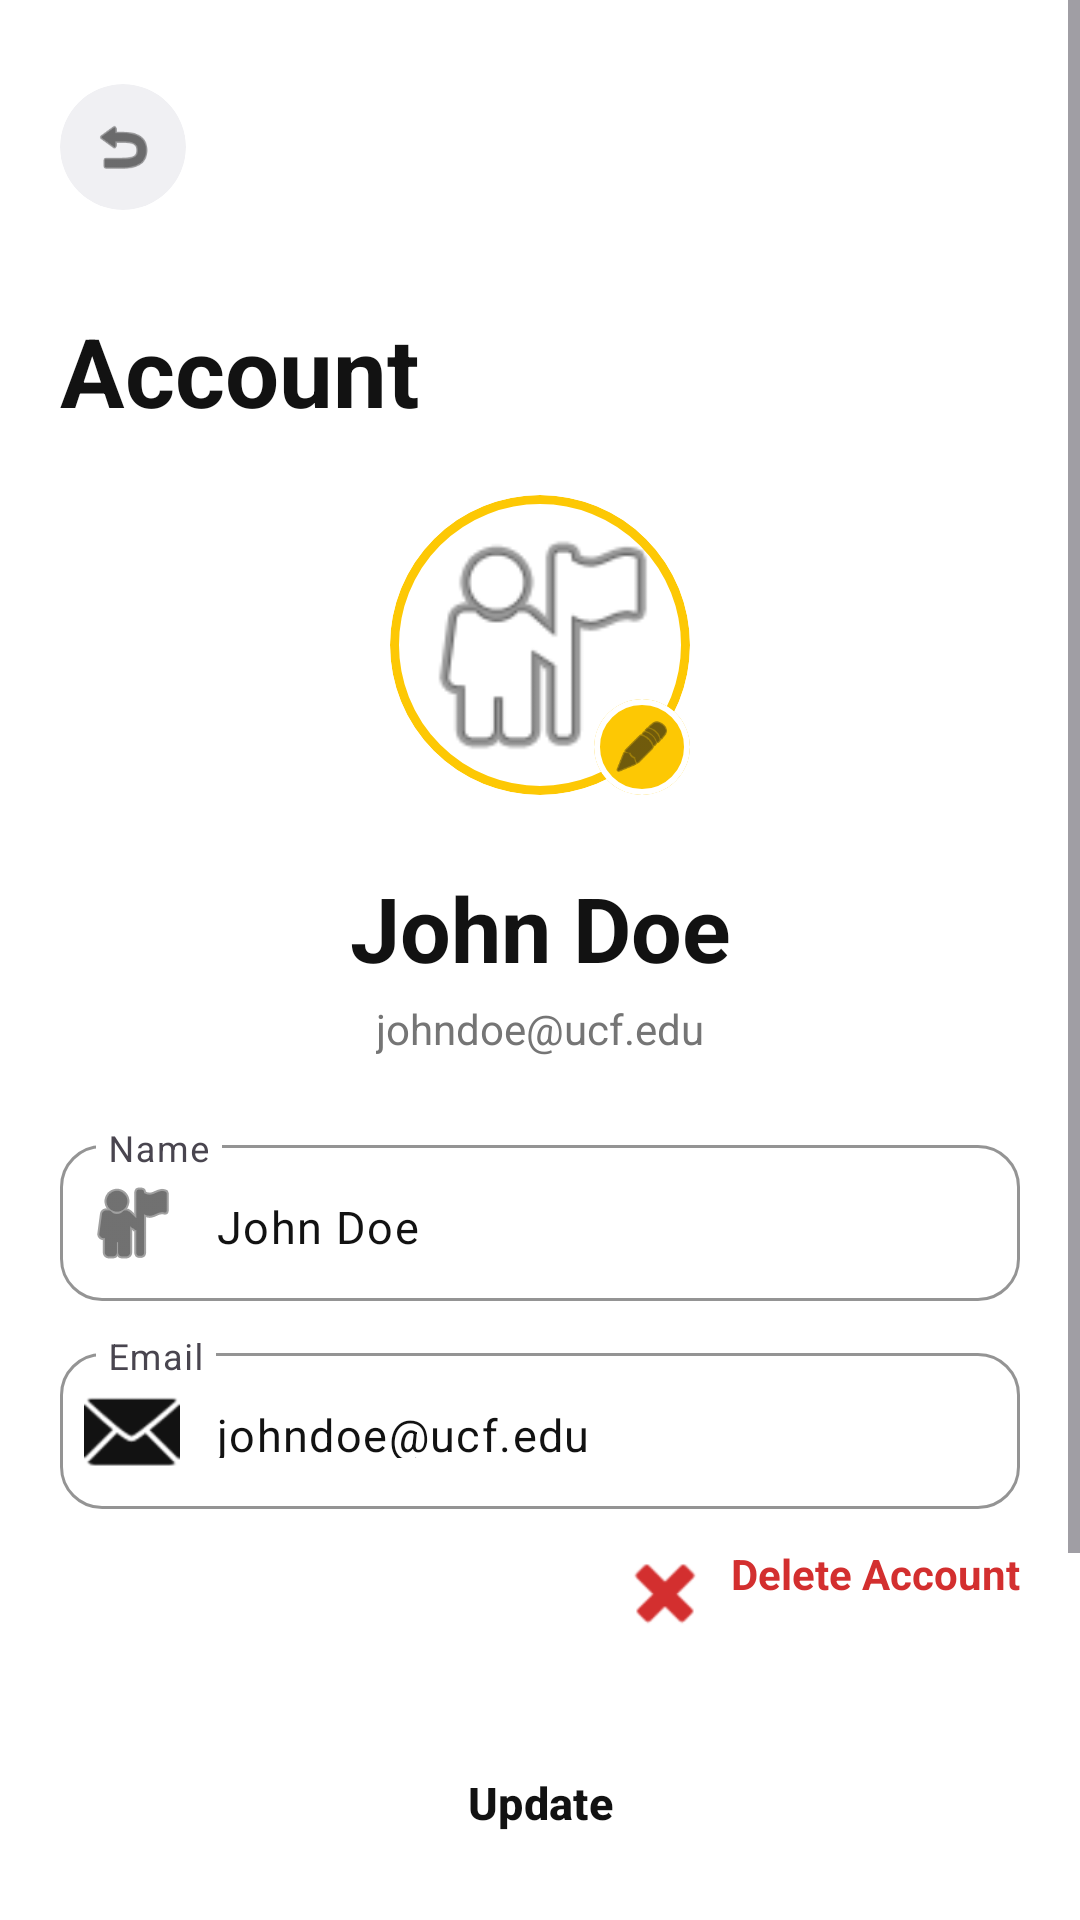

Named icons in this screenshot (1080 x 1920) and their centers, (x,y):
Back: (124,147)
